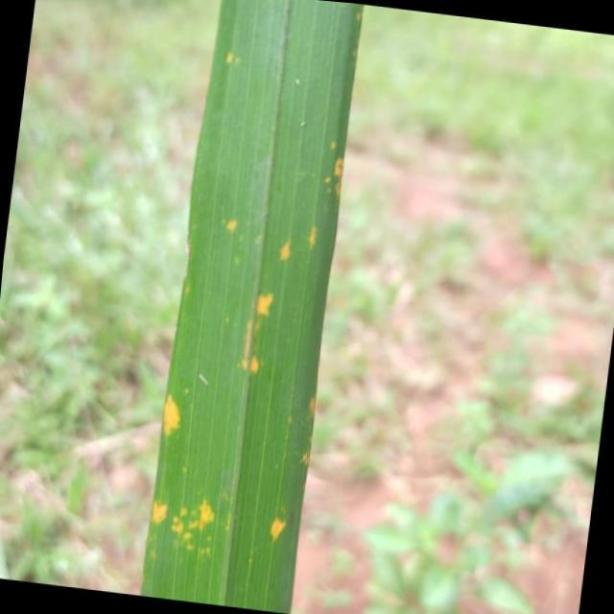Kalium: (147, 0, 366, 614)
